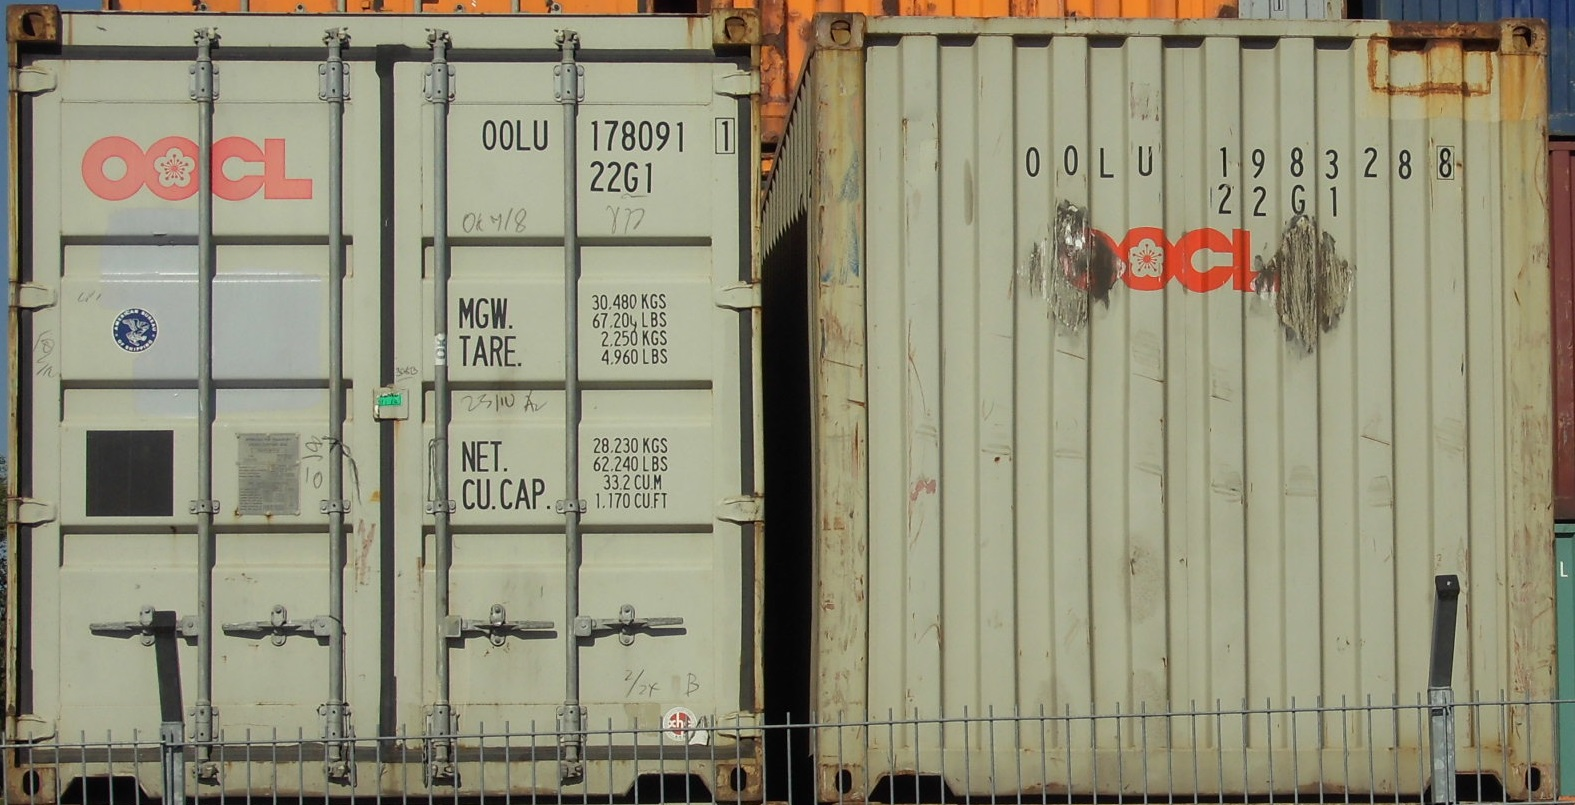container_door: (12, 16, 753, 785)
container_no_door: (796, 9, 1564, 805)
